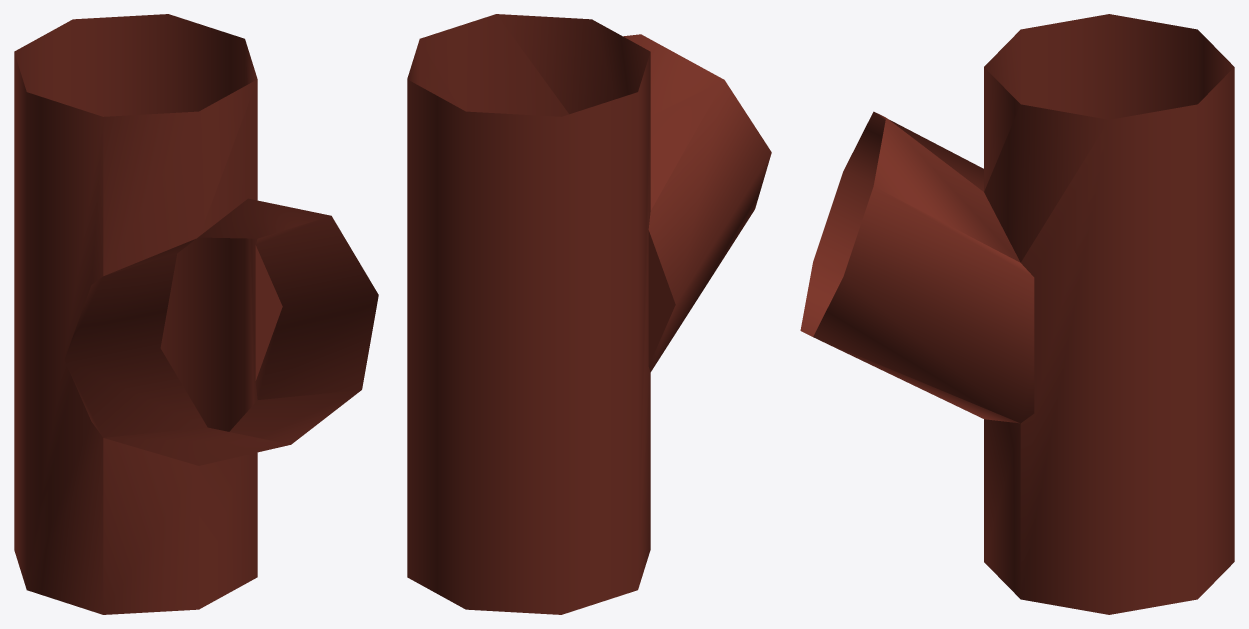
Rendered from BloodVessel_45Degree.fbx.
3 views of the same model, side by side, from view 1: azimuth 30°, elevation 25°; view 2: azimuth 150°, elevation 25°; view 3: azimuth 270°, elevation 25° (orthographic).
Parts seen in each view (by area): view 1: Cylinder003; view 2: Cylinder003; view 3: Cylinder003.
Boxes of the visible parts, <box> form: Cylinder003: <box>14,14,378,614</box>; Cylinder003: <box>407,14,771,614</box>; Cylinder003: <box>800,14,1234,614</box>.
Bounding box in the file's own units: 128 × 278 × 221.
